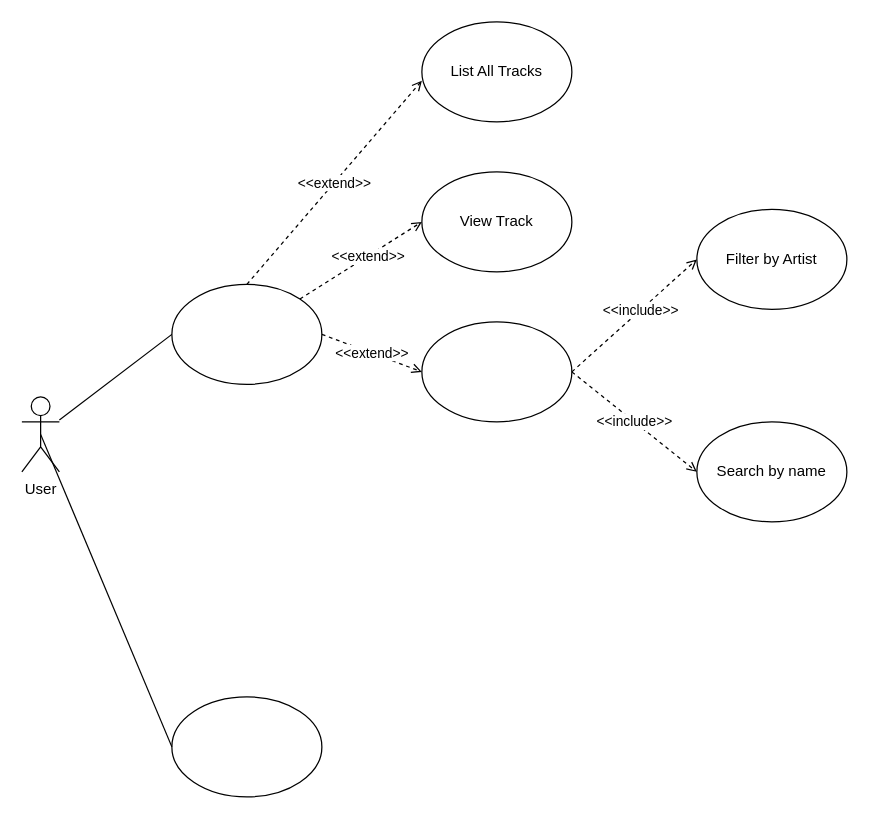
Some shapes in this 869 by 819 pixel diagram are drawn without their labels. Each missing label, with the centre of its shape:
Manage Tracklist: (246,746)
Manage Tracks: (246,333)
Search Track: (496,371)
